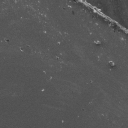corrosion: (108, 60, 116, 68), (94, 40, 101, 46), (55, 56, 61, 61)
